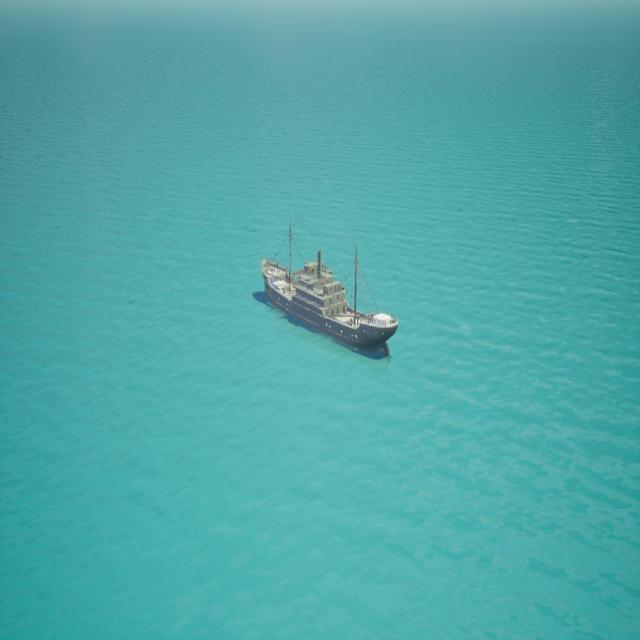fishing ship: (256, 220, 400, 360)
